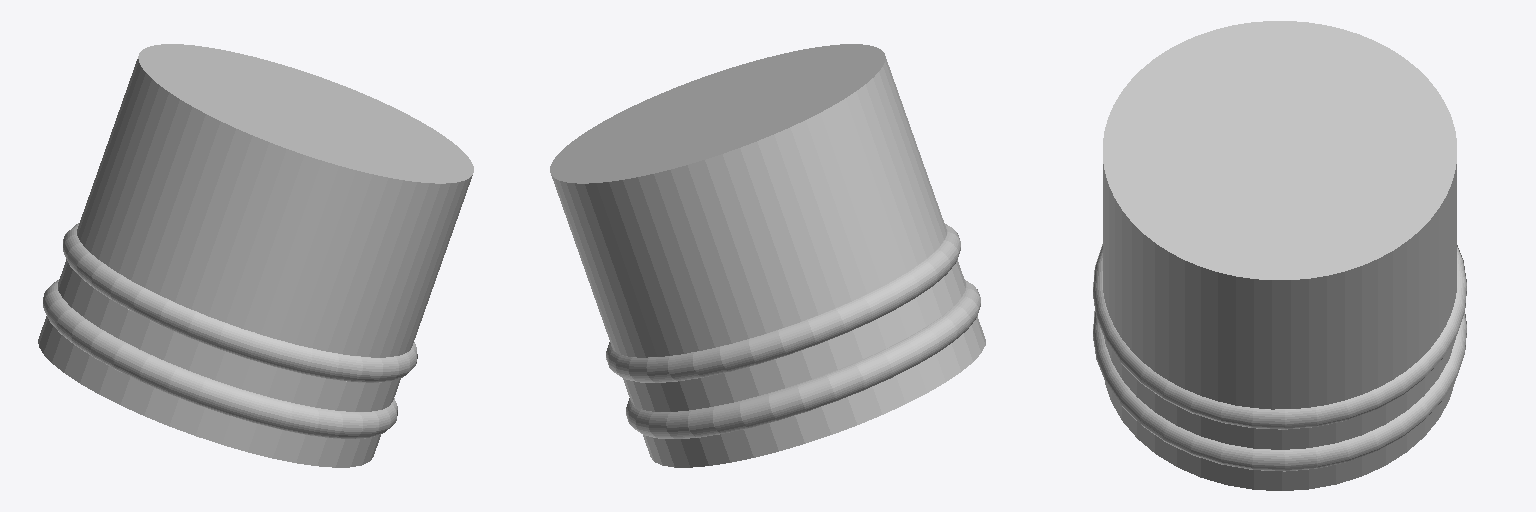
File: bombilla130.obj
3 views of the same model, side by side, from view 1: azimuth 30°, elevation 25°; view 2: azimuth 150°, elevation 25°; view 3: azimuth 270°, elevation 25° (orthographic).
Visible parts, largest first — view 1: Cylinder001, Cylinder003, Cylinder004, Cylinder006, Cylinder002; view 2: Cylinder001, Cylinder003, Cylinder004, Cylinder006, Cylinder002; view 3: Cylinder001, Cylinder004, Cylinder002, Cylinder003, Cylinder006.
Boxes of the visible parts, box(x1,y1,x2,y2) form: Cylinder001: box(77, 44, 473, 357); Cylinder003: box(58, 259, 400, 411); Cylinder004: box(43, 280, 397, 439); Cylinder006: box(38, 316, 380, 467); Cylinder002: box(63, 223, 417, 382); Cylinder001: box(550, 44, 946, 357); Cylinder003: box(623, 260, 965, 411); Cylinder004: box(626, 280, 980, 438); Cylinder006: box(643, 316, 985, 467); Cylinder002: box(606, 224, 960, 382); Cylinder001: box(1103, 21, 1456, 409); Cylinder004: box(1093, 311, 1466, 471); Cylinder002: box(1093, 244, 1466, 429); Cylinder003: box(1104, 338, 1455, 449); Cylinder006: box(1105, 379, 1455, 490).
Bounding box in the file's own units: 85.76 × 80.87 × 72.21.